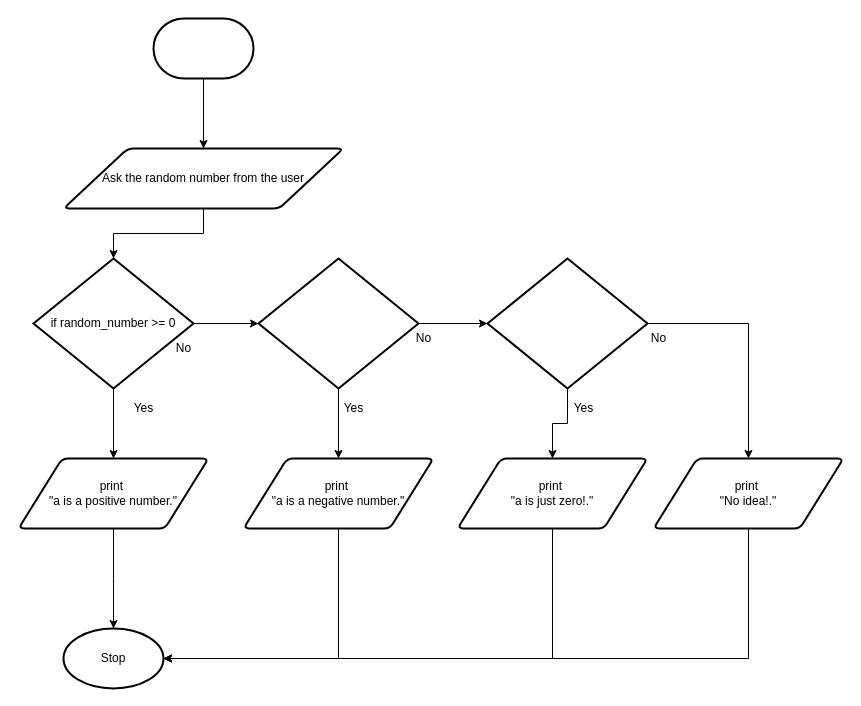
The diagram is 861 pixels wide and 706 high, and some of its shapes have lost their labels. The centre of each missing label's shape, as x and y in pixels:
if random_number == "negative": (338,323)
if random_number == "zero": (567,323)
Start: (203,48)
